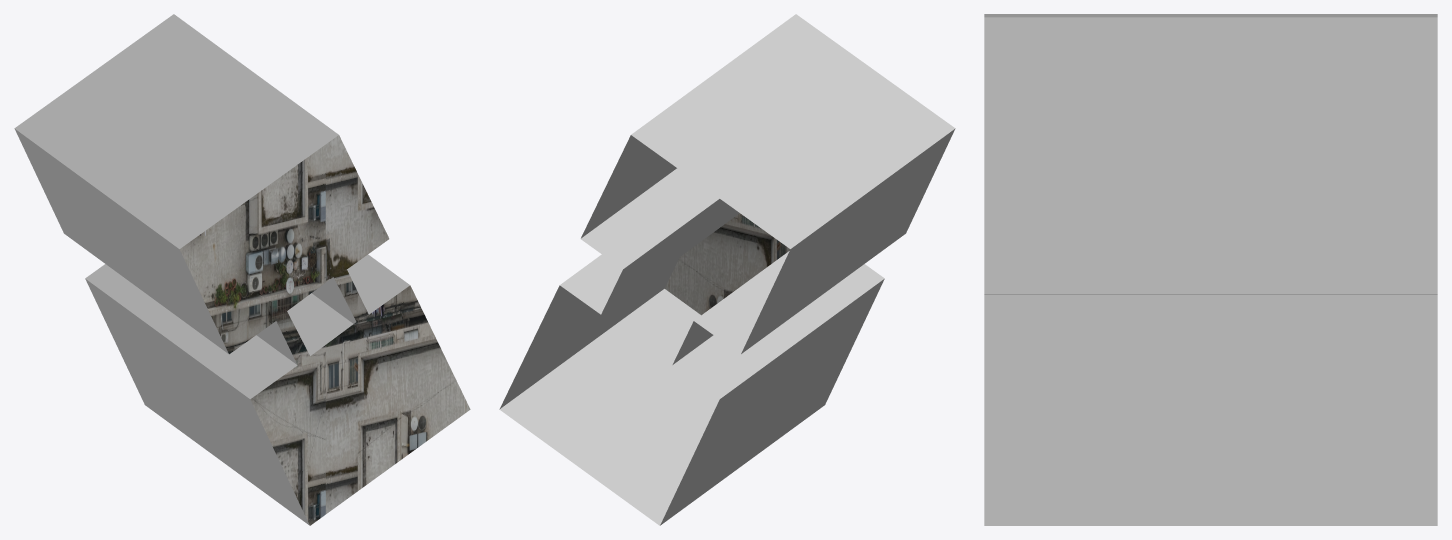
Rendered from geospecific_335.obj.
3 renders of one model, left to right at view 1: azimuth 30°, elevation 25°; view 2: azimuth 150°, elevation 25°; view 3: azimuth 270°, elevation 25°, orthographic. The views are drawn at different scales.
Visible parts, largest first — view 1: Building; view 2: Building; view 3: Building.
Boxes of the visible parts, <box> form: Building: <box>14,14,470,525</box>; Building: <box>499,14,955,525</box>; Building: <box>984,14,1437,525</box>.
Bounding box in the file's own units: 18.31 × 23.09 × 18.
